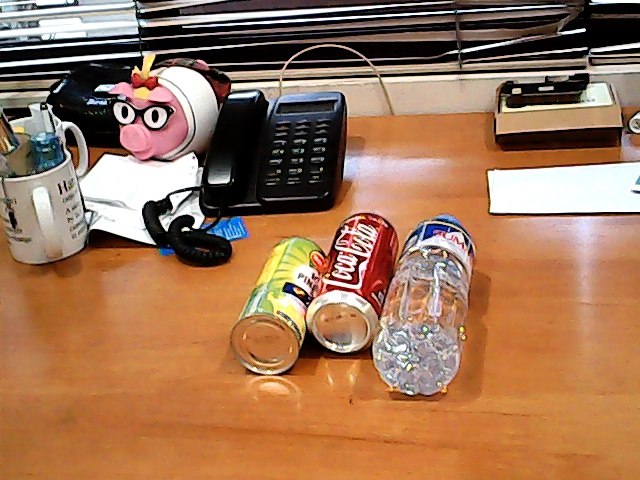Cola: (299, 186, 403, 366)
Pine Juice: (218, 227, 322, 380)
Summit Water: (378, 202, 485, 405)
